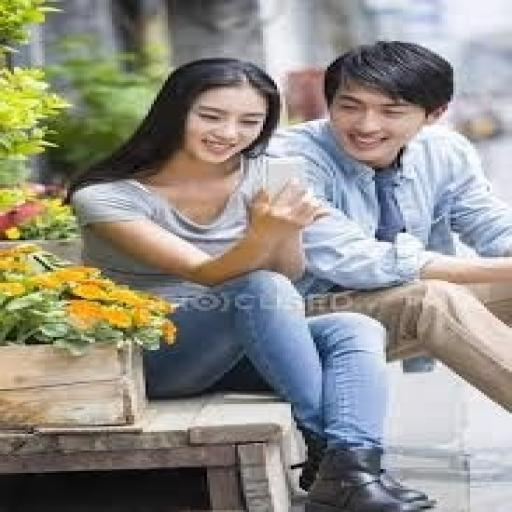texting: (64, 54, 436, 510)
